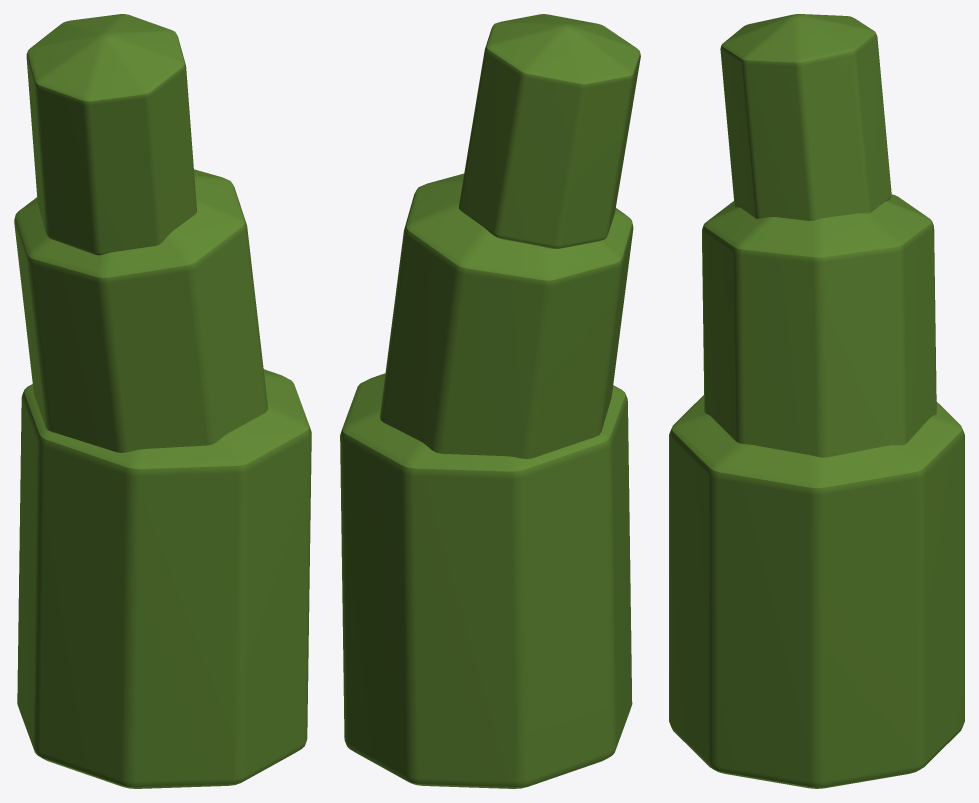
The model's file is CylinderCactus.fbx.
The picture shows the model from 3 angles, left to right: view 1: azimuth 30°, elevation 25°; view 2: azimuth 150°, elevation 25°; view 3: azimuth 270°, elevation 25°; orthographic projection. The views are drawn at different scales.
Parts seen in each view (by area): view 1: CactusCylinder, CactusCylinder1, CactusCylinder2; view 2: CactusCylinder, CactusCylinder1, CactusCylinder2; view 3: CactusCylinder, CactusCylinder1, CactusCylinder2.
Part boxes in pixels (x1,y1,x2,y2): CactusCylinder: [17, 369, 311, 788]; CactusCylinder1: [14, 169, 267, 452]; CactusCylinder2: [26, 14, 196, 255]; CactusCylinder: [340, 373, 632, 788]; CactusCylinder1: [380, 173, 633, 458]; CactusCylinder2: [458, 14, 640, 248]; CactusCylinder: [669, 395, 964, 788]; CactusCylinder1: [702, 194, 936, 457]; CactusCylinder2: [720, 14, 891, 220].
Bounding box in the file's own units: 0.8422 × 2.31 × 0.8495.
